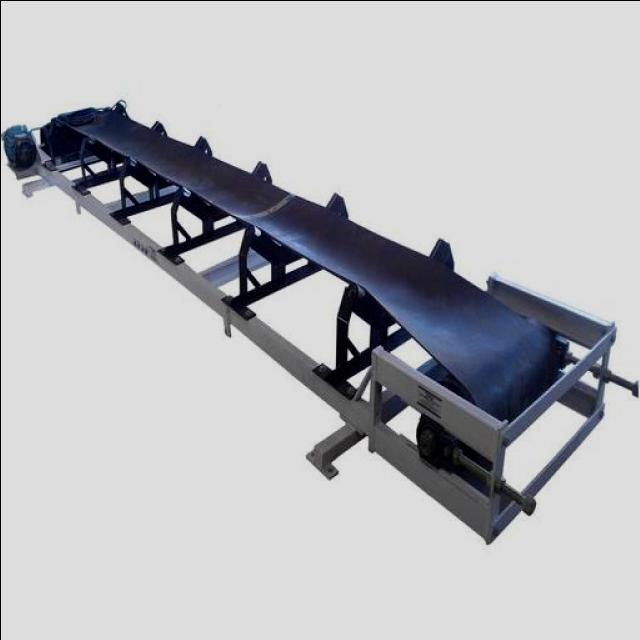conveyor: (62, 105, 570, 424)
